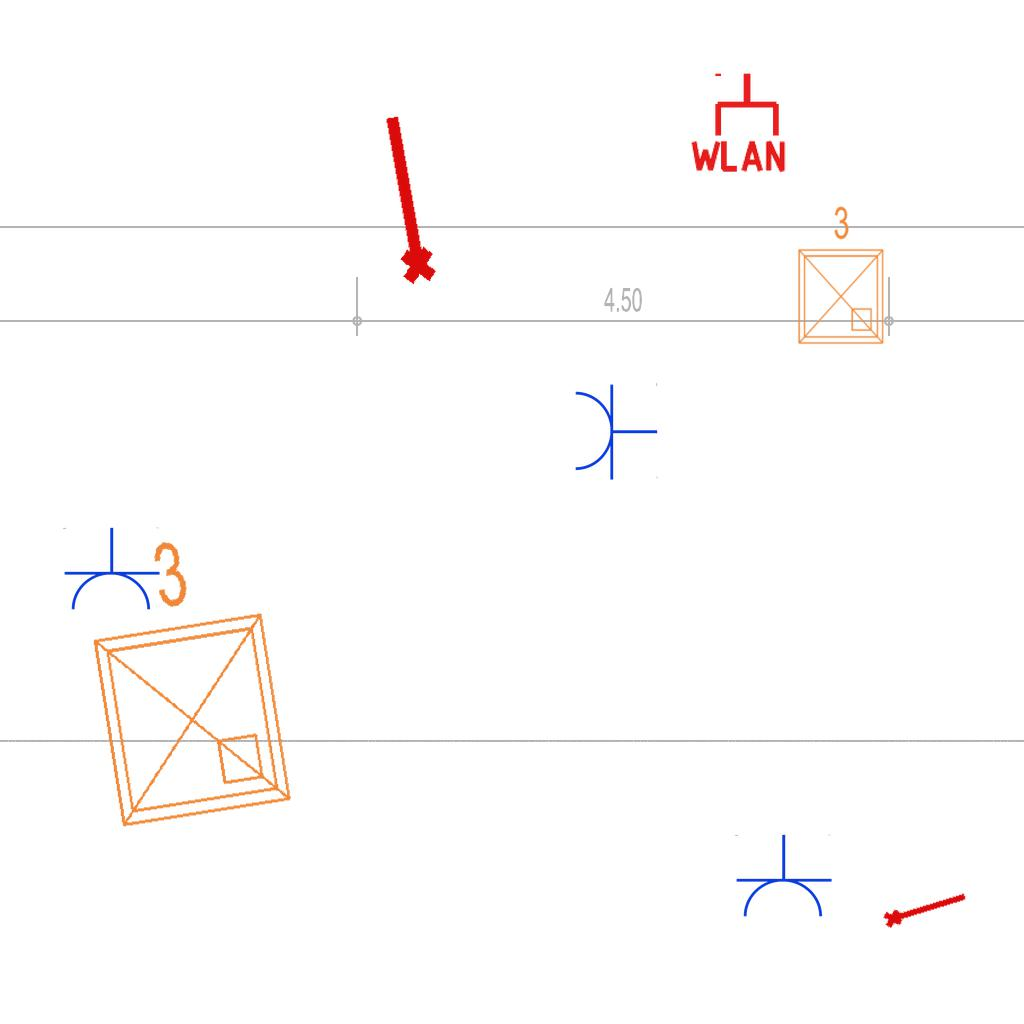ASR_Ansaugoeffnung: (366, 108, 442, 290), (879, 883, 971, 932)
Einbaudownlights_LED_Konferenzraeume: (55, 515, 309, 845), (787, 201, 891, 351)
Schukosteckdose_einfach: (733, 834, 833, 921), (571, 381, 658, 481), (61, 527, 161, 614)
WLAN: (686, 69, 790, 174)
